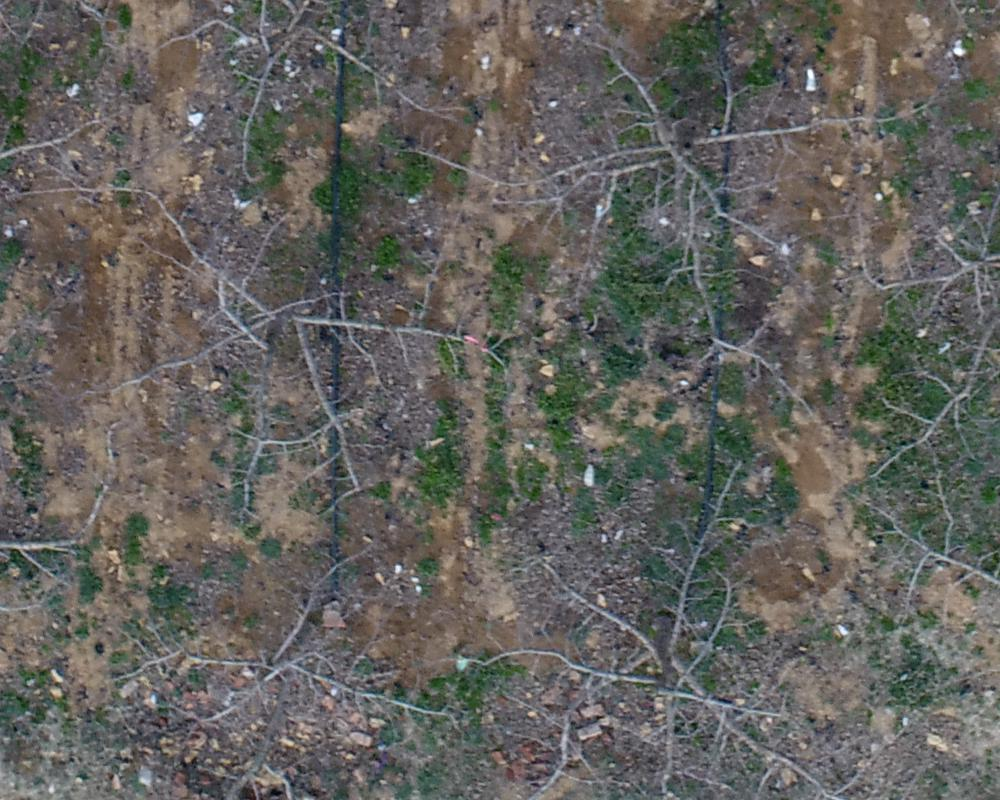apple: (24, 181, 504, 520), (455, 463, 952, 790), (414, 36, 933, 315), (97, 537, 463, 790), (157, 10, 466, 176), (839, 457, 990, 723)
